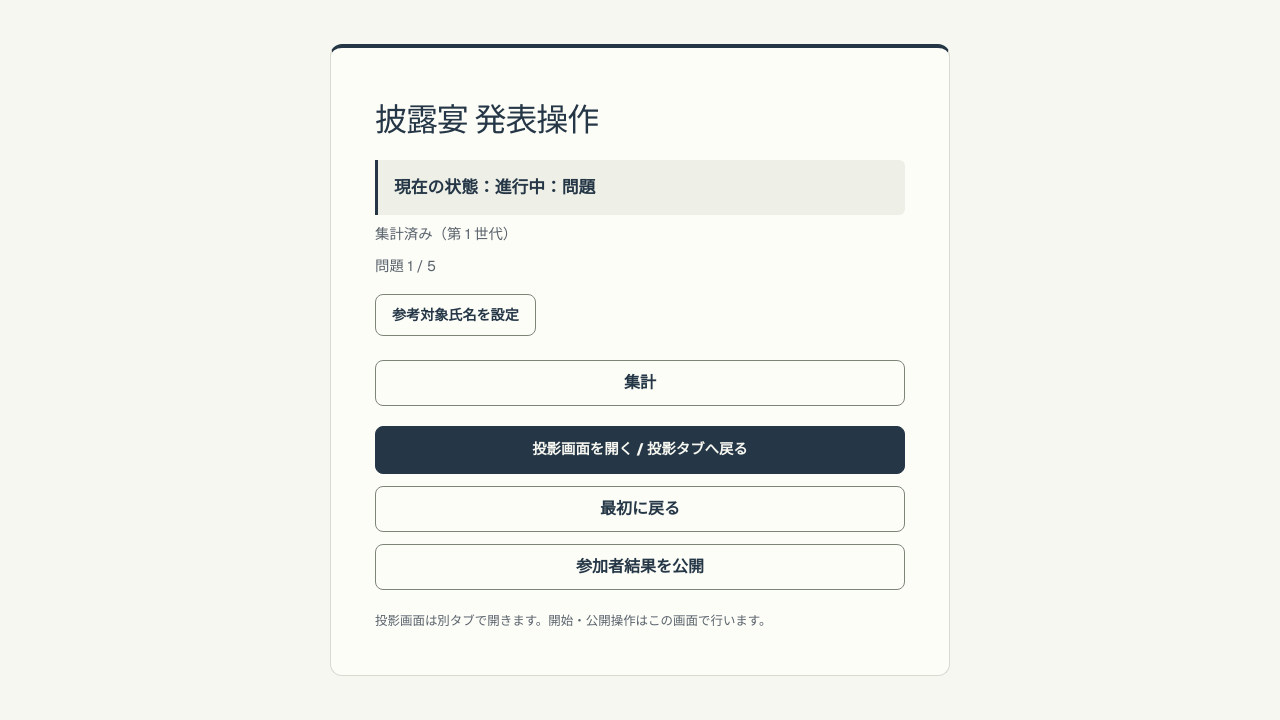
Test case: presentation admin console › discards a state response made stale by session expiry
Check: the text "現在の状態：進行中：問題" is shown, box x1=375 y1=160 x2=905 y2=215
Click the button "最初に戻る": {"x": 640, "y": 509} x1=375 y1=486 x2=905 y2=532
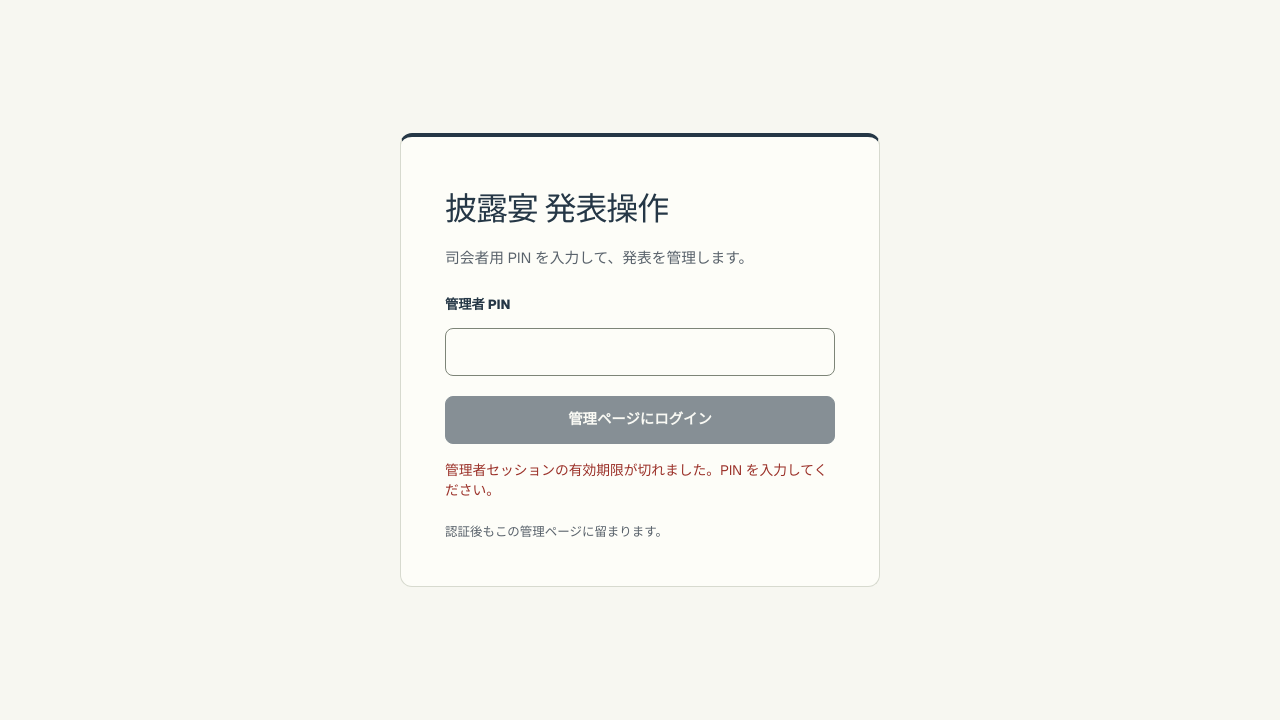
Check: the message shows "管理者セッションの有効期限が切れました", box x1=445 y1=460 x2=827 y2=499
Check: the password field labelled "管理者 PIN" is shown, box x1=445 y1=328 x2=835 y2=376
